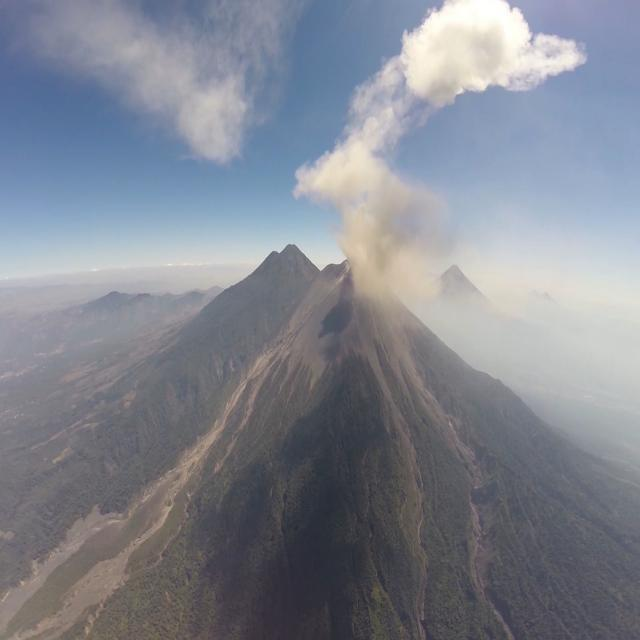Plume: (11, 0, 290, 168), (296, 128, 450, 306), (400, 2, 596, 101)
